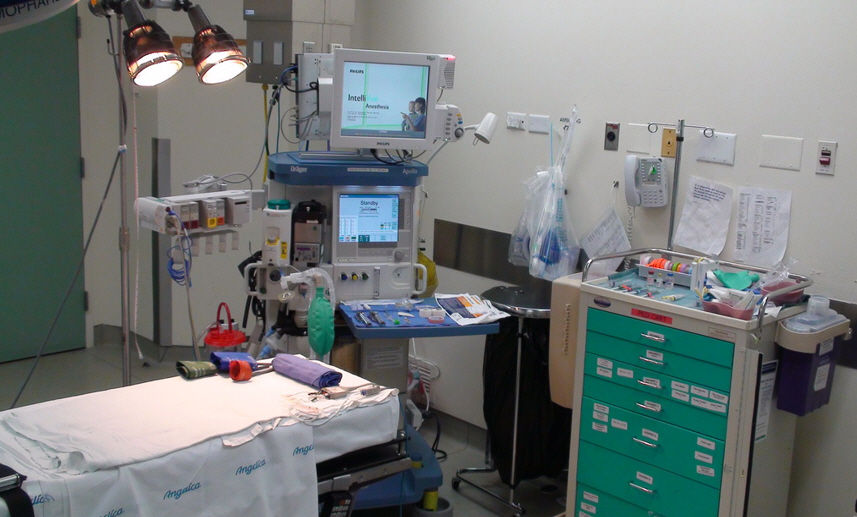bedside_monitor: (330, 46, 464, 150), (330, 185, 407, 253)
handle: (637, 331, 670, 343), (626, 482, 657, 494), (631, 436, 662, 448), (634, 403, 662, 412), (636, 381, 667, 389), (637, 357, 668, 365)
medical_drawer: (575, 253, 833, 517)
operating_bed: (11, 364, 404, 507)
surgical_instrument: (351, 282, 492, 340)
surgical_light: (120, 20, 181, 85), (187, 24, 247, 83)
telephone: (620, 151, 674, 214)
waste_bin: (473, 283, 575, 517)
